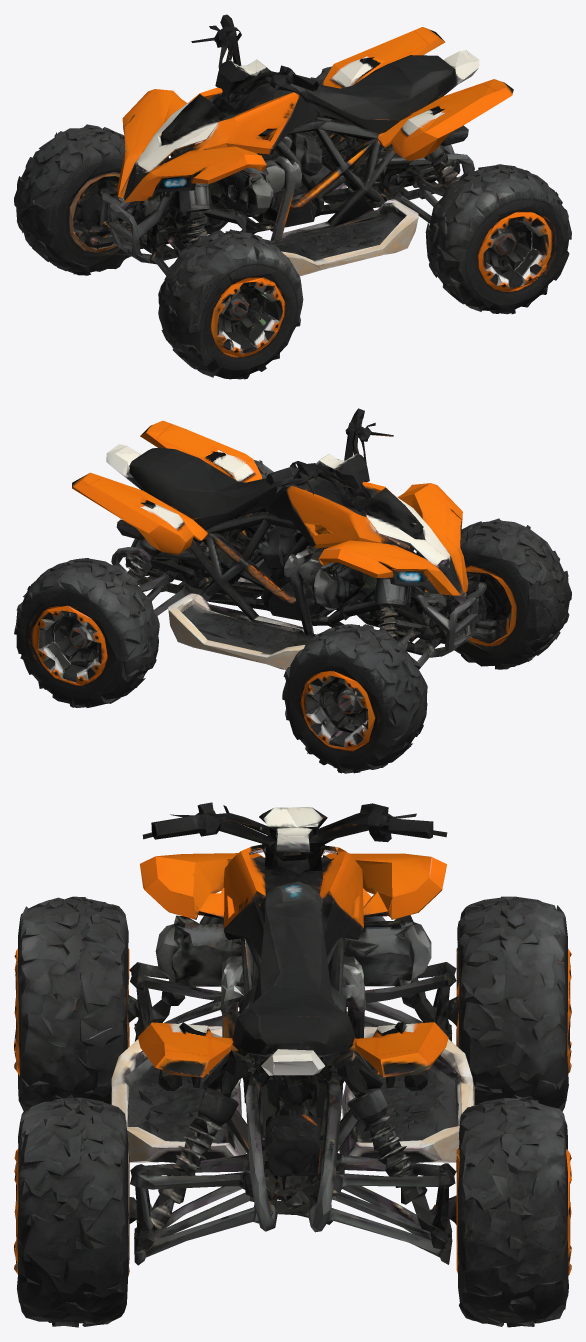
3 renders of one model, top to bottom at view 1: azimuth 30°, elevation 25°; view 2: azimuth 150°, elevation 25°; view 3: azimuth 270°, elevation 25°, orthographic. The views are drawn at different scales.
Size of the model in its own units: 1.9 by 1.15 by 1.51.
1 material, 1 textured.
